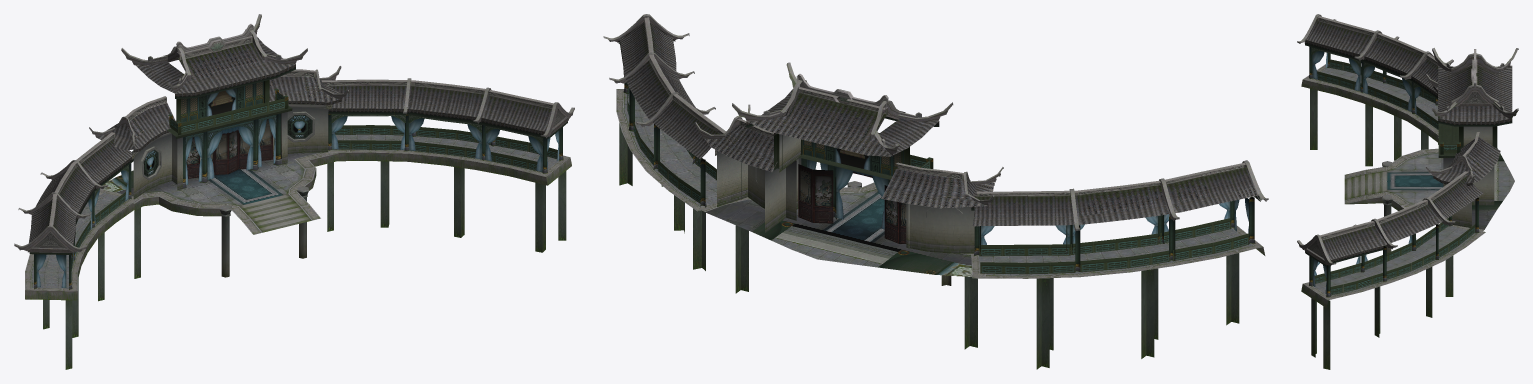
File: yw_yanziwu_zhujian.FBX
3 renders of one model, left to right at view 1: azimuth 30°, elevation 25°; view 2: azimuth 150°, elevation 25°; view 3: azimuth 270°, elevation 25°, orthographic. The views are drawn at different scales.
Parts seen in each view (by area): view 1: yw_yanziwu_zhujian; view 2: yw_yanziwu_zhujian; view 3: yw_yanziwu_zhujian.
Boxes of the visible parts, x1,y1,x2,y2 form: yw_yanziwu_zhujian: [14, 14, 574, 369]; yw_yanziwu_zhujian: [603, 14, 1268, 369]; yw_yanziwu_zhujian: [1297, 14, 1518, 369].
Size of the model in its own units: 3049 by 1092 by 1169.
